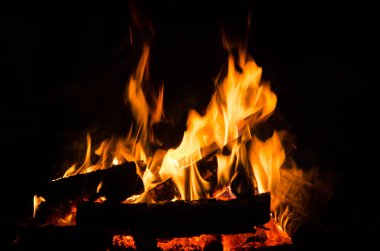fire: (176, 58, 293, 200), (122, 49, 169, 194), (74, 135, 113, 172)
